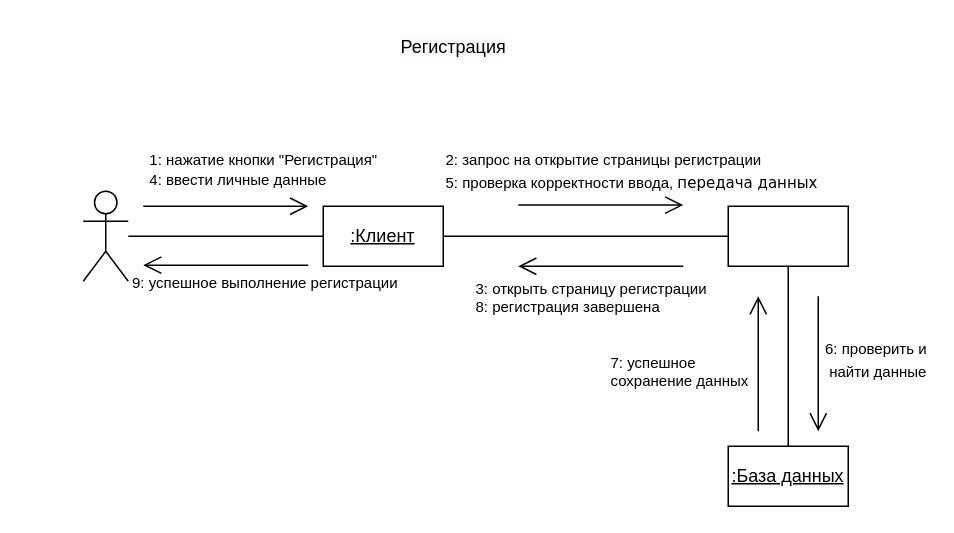
This 954x533 diagram has some shape labels left out. Here are the shapes that lost their labels. From the top down, the centre of each, then its label:
At (105,235): ": Пользователь".
At (787,235): ":Сервер".
